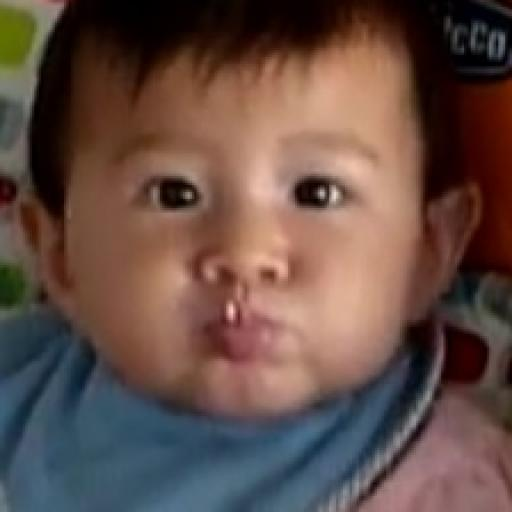Autism: (62, 31, 458, 415)
